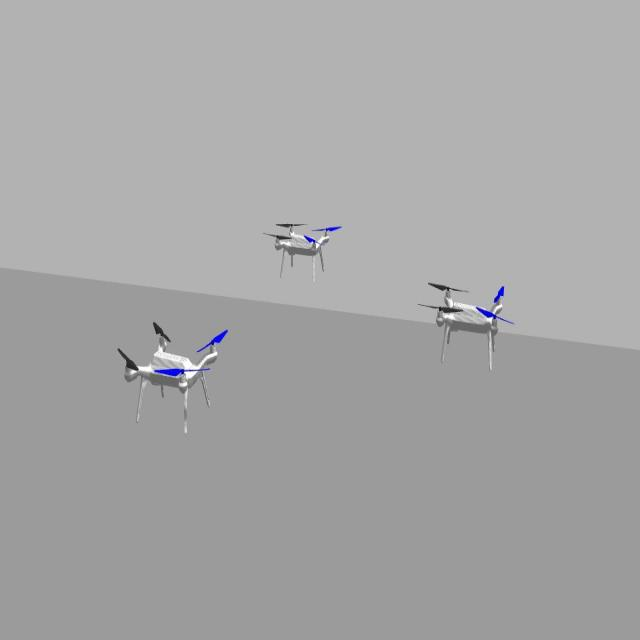Drone: (264, 210, 344, 284)
